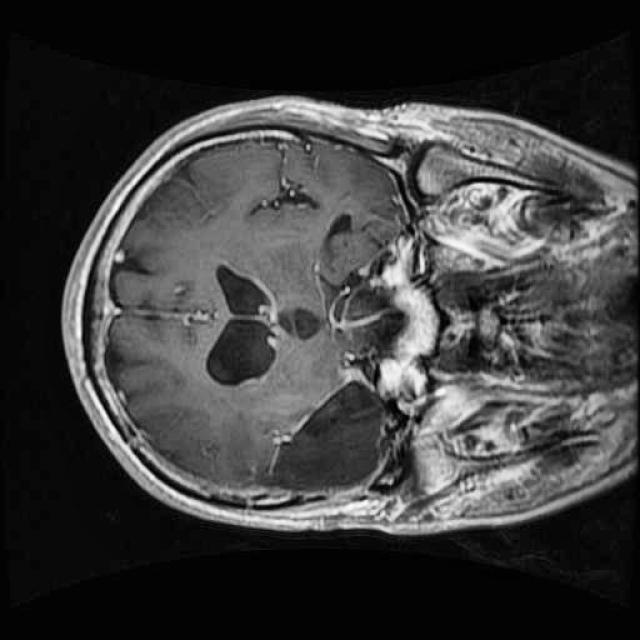Non-Tumor: (259, 365, 408, 516)
